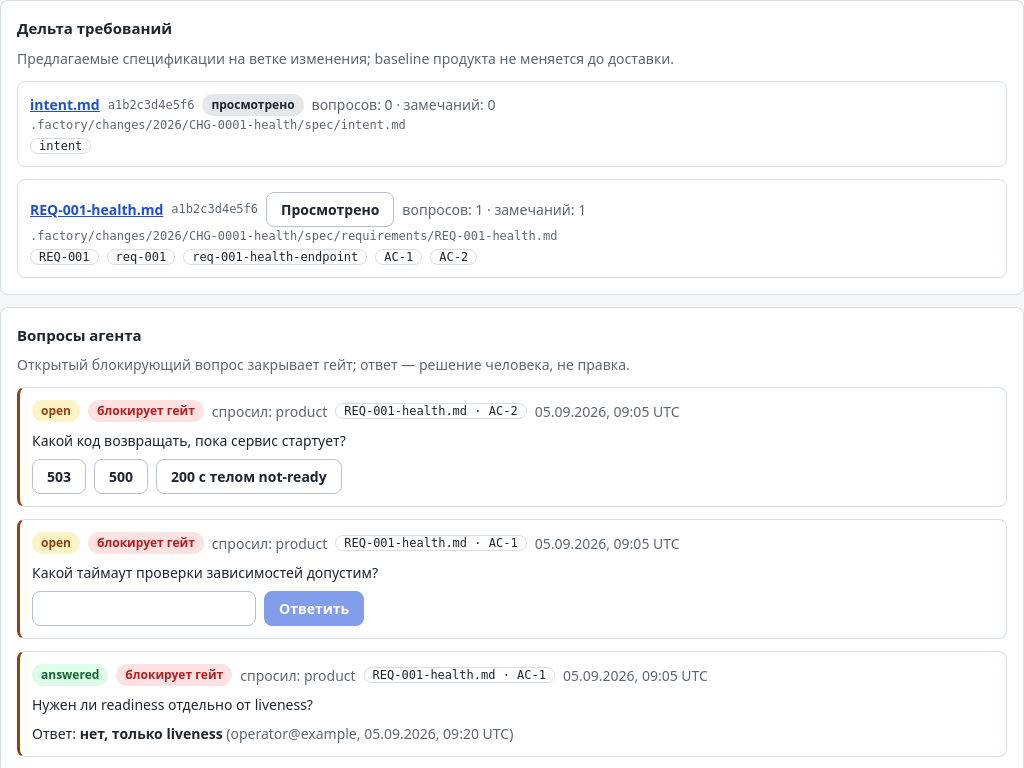
Test: RequirementsPhase (T089) › shows the server detail when an answer is refused
Click the button "503".
click(59, 476)  # box 32,459 -> 86,494
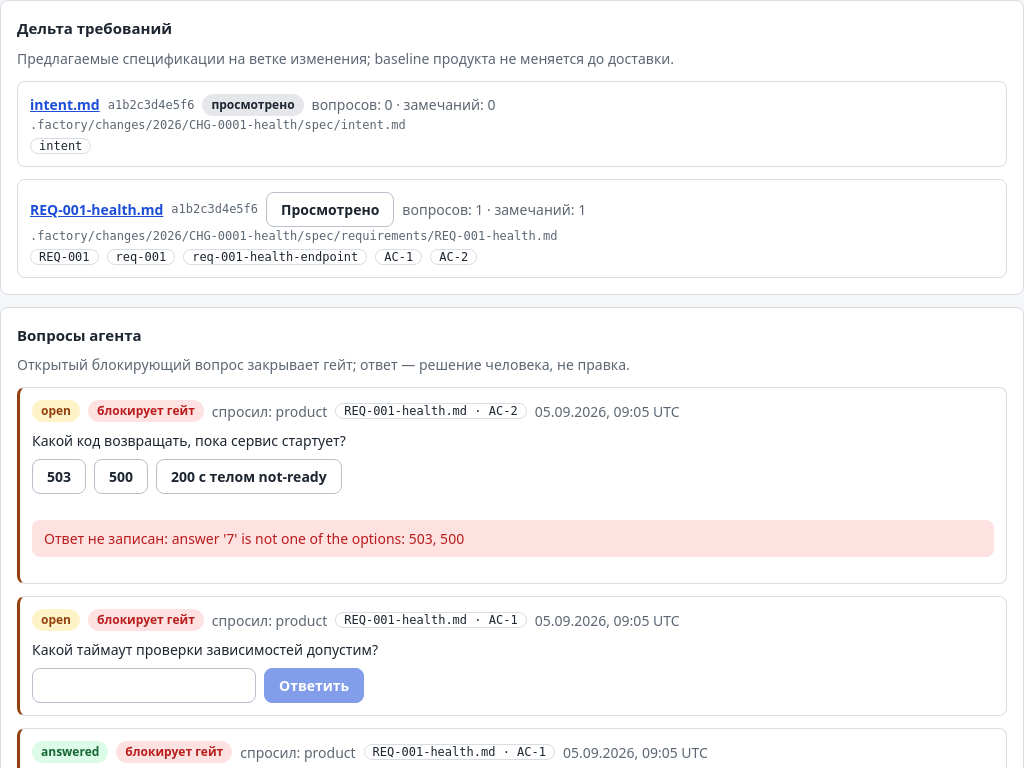
Expected: the text "Ответ не записан: answer '7' is not one of the options: 503, 500" is shown, 32,520 -> 994,557
